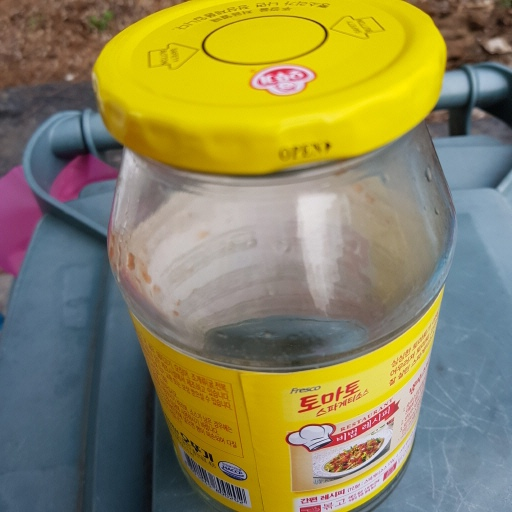Glass_5: (88, 3, 456, 511)
